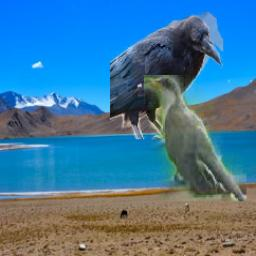Crow: (109, 13, 222, 140)
Cuckoo: (143, 75, 245, 201)
